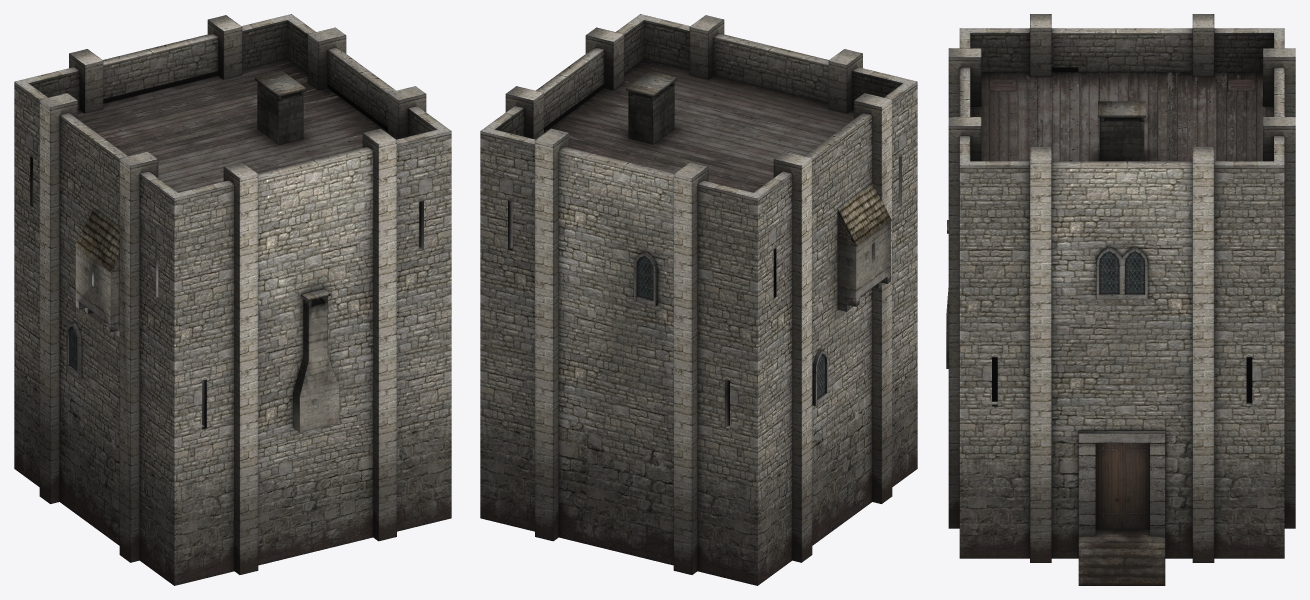
File: tower.gltf
3 views of the same model, side by side, from view 1: azimuth 30°, elevation 25°; view 2: azimuth 150°, elevation 25°; view 3: azimuth 270°, elevation 25° (orthographic).
Parts seen in each view (by area): view 1: tower; view 2: tower; view 3: tower.
Part boxes in pixels (left/top/right/bottom): tower: left=14, top=14, right=451, bottom=585; tower: left=480, top=14, right=917, bottom=585; tower: left=946, top=14, right=1295, bottom=585.
Bounding box in the file's own units: 56.39 × 61.01 × 47.65.
1 material, 1 textured.
